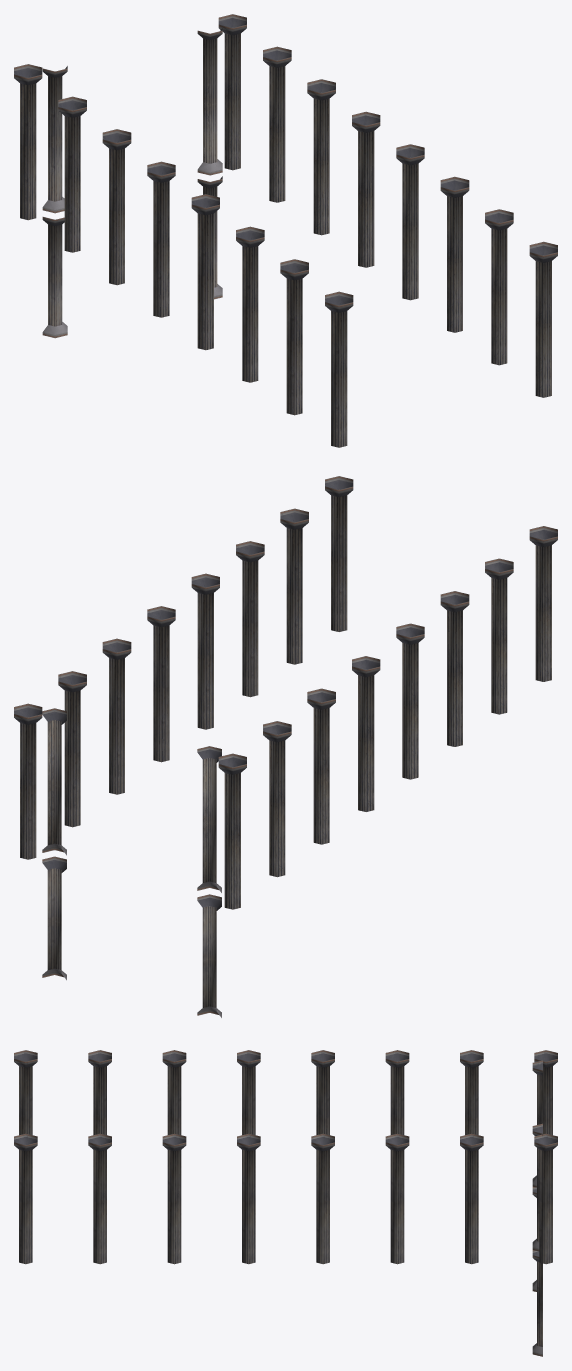
Rendered from Recruit_Pillars_02.FBX.
3 views of the same model, one above another, from view 1: azimuth 30°, elevation 25°; view 2: azimuth 150°, elevation 25°; view 3: azimuth 270°, elevation 25° (orthographic). The views are drawn at different scales.
Visible parts, largest first — view 1: Recruit_Pillars_02; view 2: Recruit_Pillars_02; view 3: Recruit_Pillars_02.
Boxes of the visible parts, x1=… form: Recruit_Pillars_02: x1=14, y1=14, x2=557, y2=447; Recruit_Pillars_02: x1=14, y1=476, x2=557, y2=1017; Recruit_Pillars_02: x1=14, y1=1050, x2=557, y2=1356.
Bounding box in the file's own units: 15.07 × 16.48 × 36.41.
